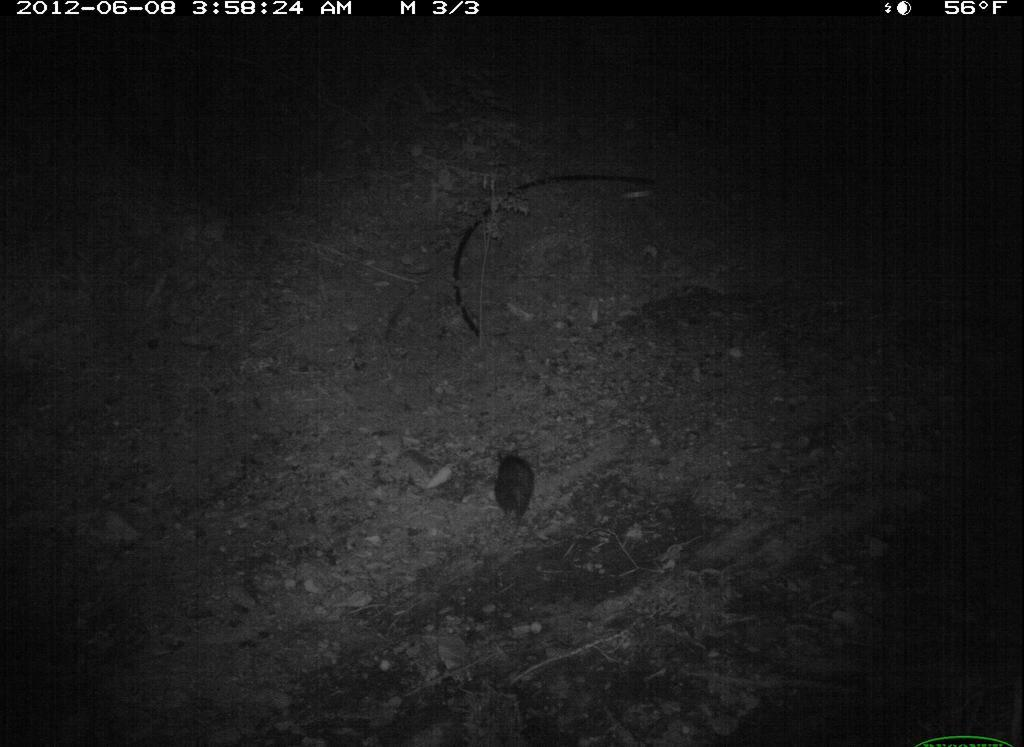opossum: (488, 438, 551, 537)
